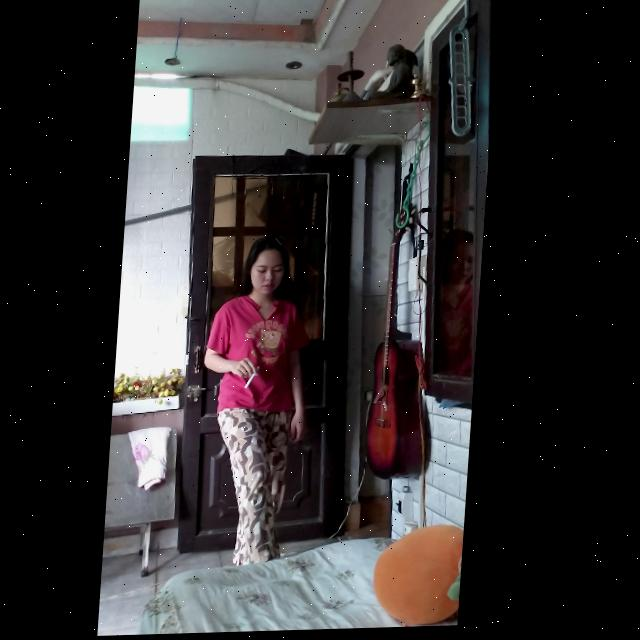cigarette: (249, 368, 265, 391)
